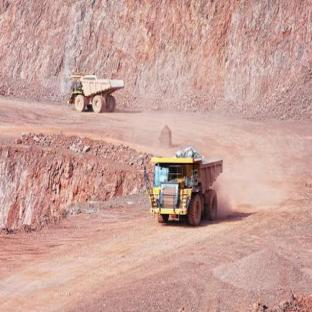Vehicle: (140, 142, 226, 237), (49, 72, 142, 121)
